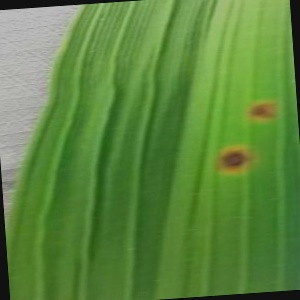Bacterial_Leaf_Blight: (207, 136, 272, 182), (243, 94, 286, 131)
